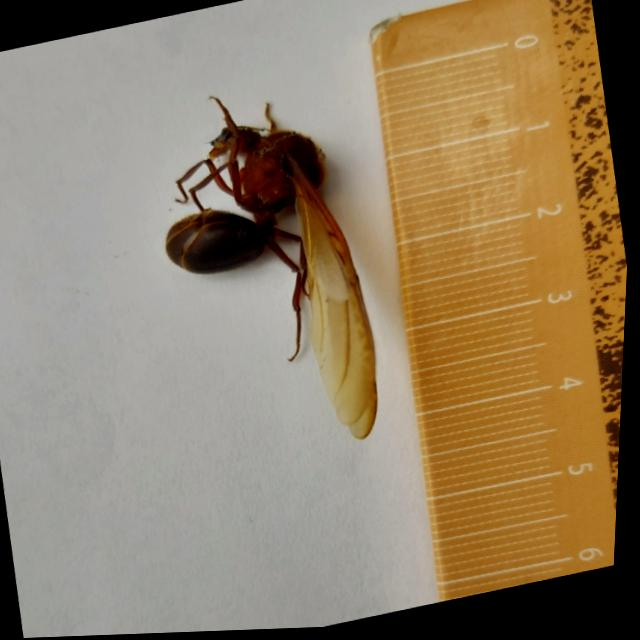Dead-Female-Alate: (132, 68, 404, 479)
